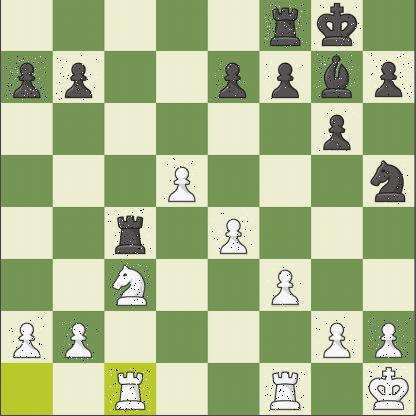Black Bishop: (316, 54, 356, 98)
Black Castle: (108, 208, 152, 257), (264, 4, 308, 49)
Black King: (314, 3, 362, 46)
Black Knight: (366, 159, 411, 205)
Black Pawn: (368, 53, 413, 102), (56, 55, 98, 101), (6, 56, 48, 101), (266, 56, 304, 100), (318, 108, 356, 152), (216, 58, 251, 100)
White Castle: (263, 368, 306, 413), (109, 368, 152, 413)
White King: (366, 366, 411, 413)
White Knight: (110, 261, 150, 306)
White Pawn: (316, 316, 357, 362), (211, 213, 253, 257), (368, 318, 412, 360), (62, 316, 98, 362), (9, 317, 46, 360), (164, 158, 198, 203), (268, 266, 302, 308)
